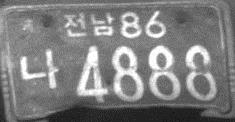4: (75, 44, 109, 105)
6: (144, 9, 167, 39)
8: (110, 44, 144, 102), (184, 44, 217, 103), (147, 44, 181, 99), (118, 10, 142, 39)
나: (18, 48, 60, 89)
전남_O: (62, 11, 114, 38)
